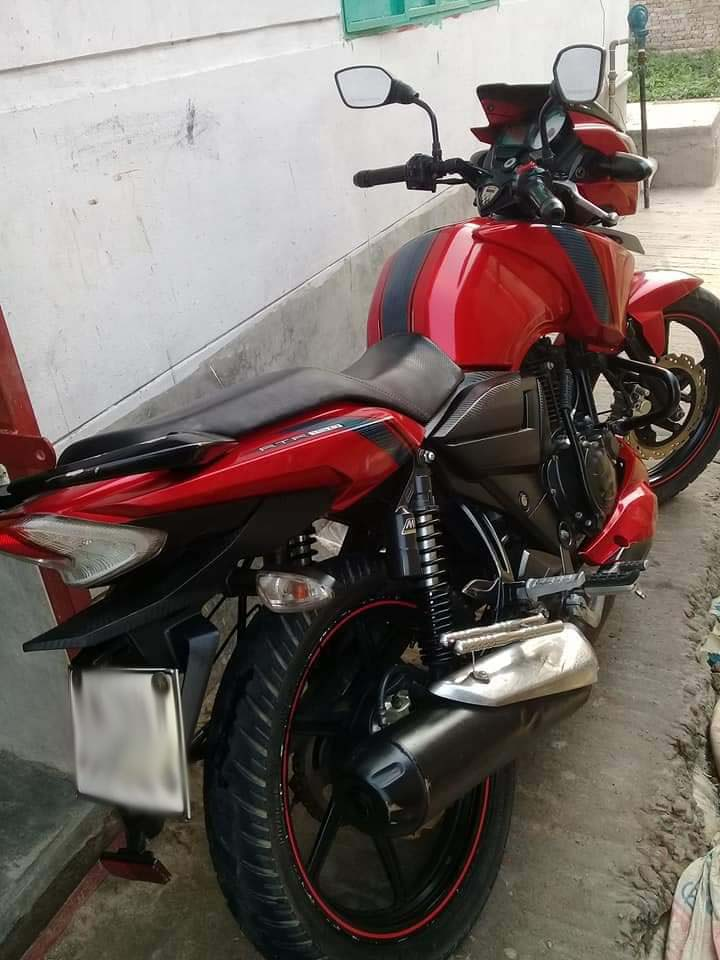bike: (1, 43, 720, 960)
